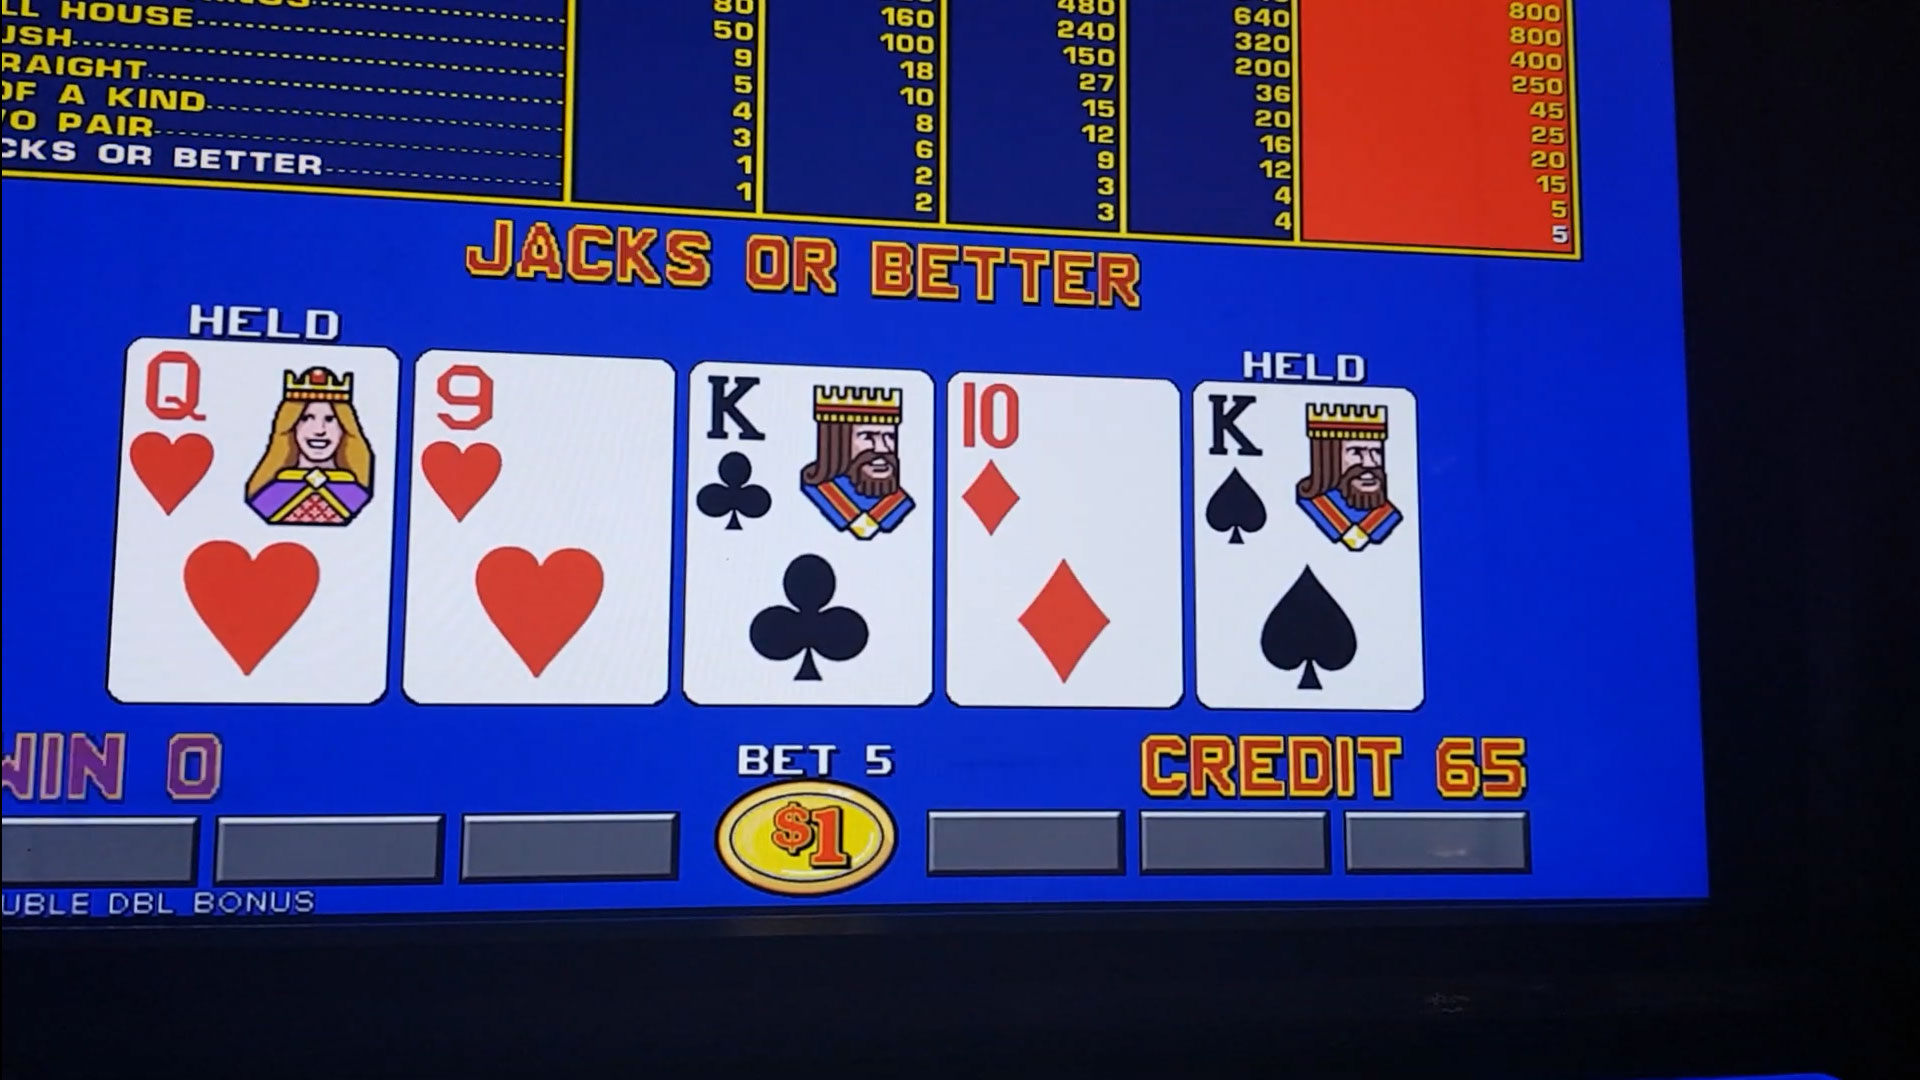CK: (700, 371, 931, 545)
DT: (953, 381, 1176, 556)
H9: (425, 367, 665, 533)
HQ: (131, 348, 394, 527)
SK: (1195, 389, 1414, 562)
